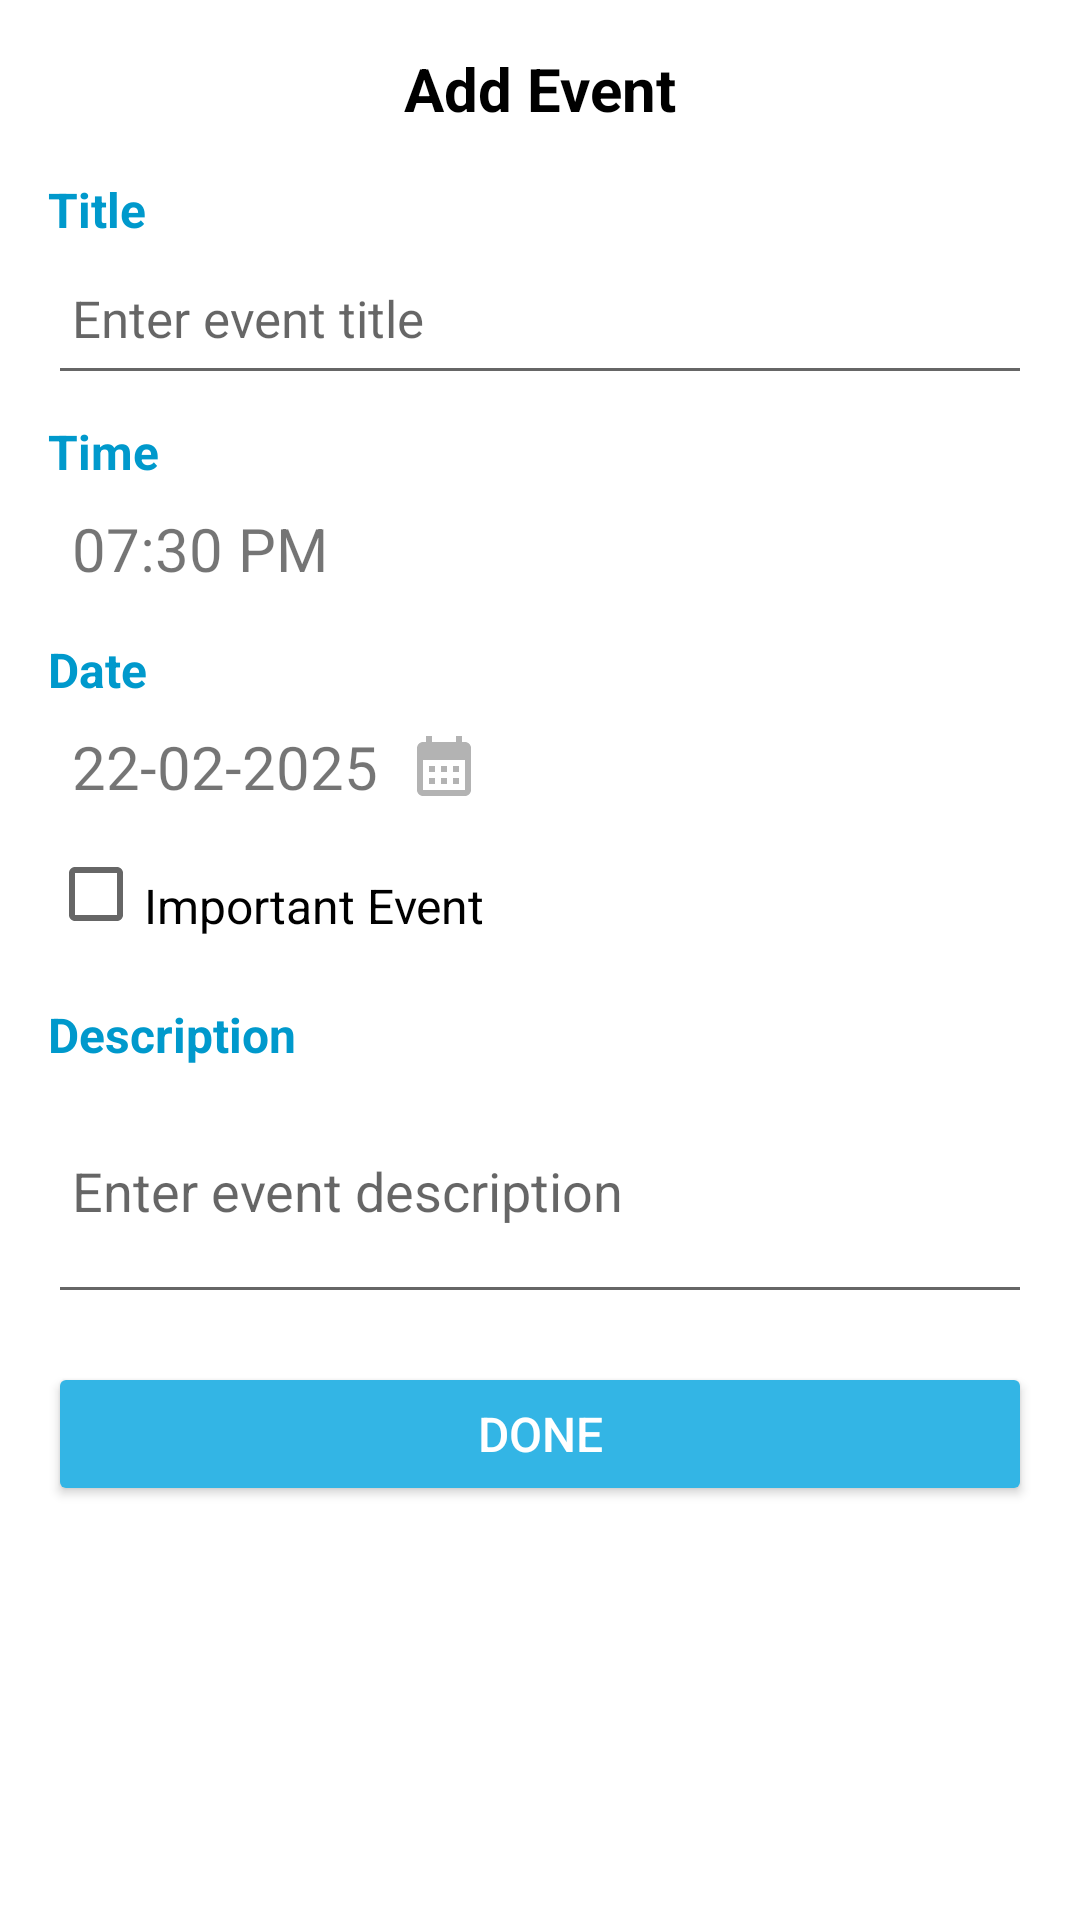

Named icons in this screenshot (1080 x 1920) and their centers, (x=x, y=y):
calendar: (x=444, y=766)
